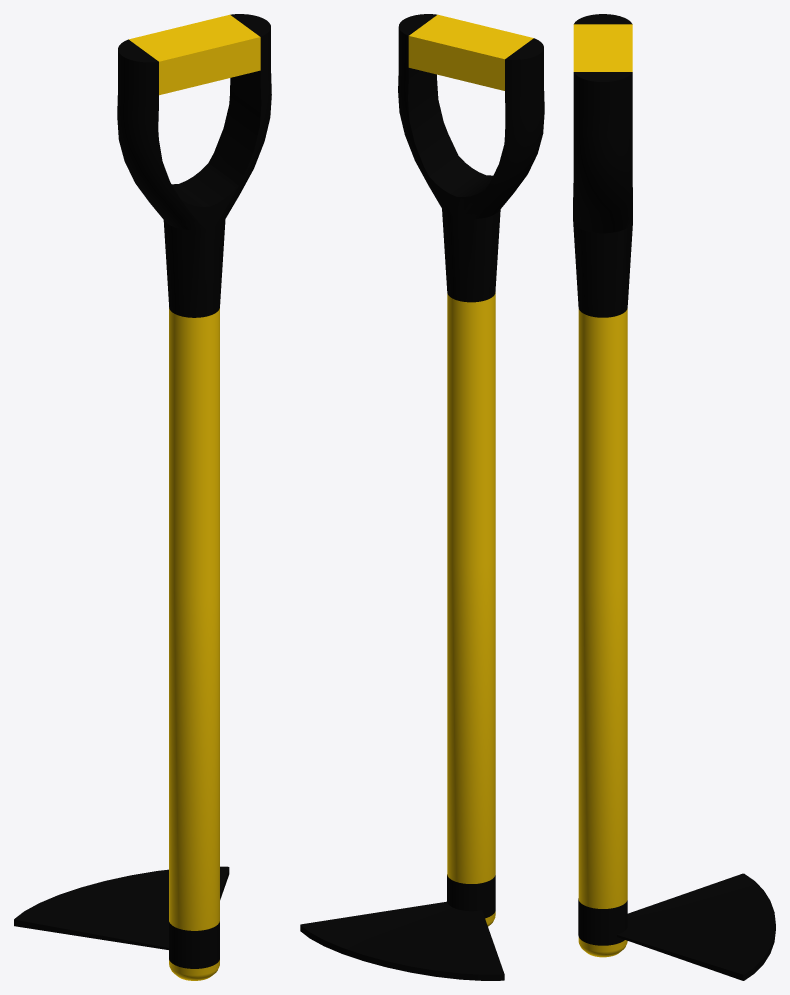
Rendered from hoe.fbx.
3 views of the same model, side by side, from view 1: azimuth 30°, elevation 25°; view 2: azimuth 150°, elevation 25°; view 3: azimuth 270°, elevation 25° (orthographic). The views are drawn at different scales.
Visible parts, largest first — view 1: hoe; view 2: hoe; view 3: hoe.
Part boxes in pixels (x1=…): hoe: x1=14, y1=14, x2=271, y2=980; hoe: x1=300, y1=14, x2=544, y2=980; hoe: x1=573, y1=14, x2=775, y2=980.
Bounding box in the file's own units: 21.93 × 91.12 × 18.57.
